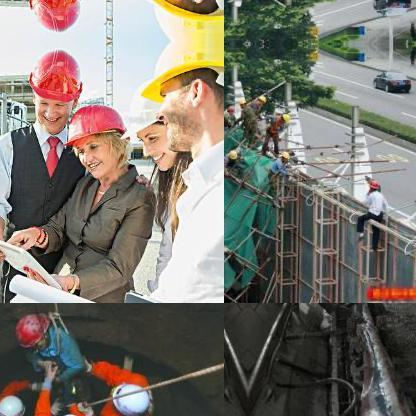Helmet: (138, 39, 223, 153), (122, 77, 186, 169), (24, 47, 80, 129), (66, 103, 127, 177), (138, 0, 223, 40), (23, 0, 82, 33), (13, 311, 52, 349), (110, 379, 148, 412), (0, 392, 26, 415), (275, 147, 291, 163), (224, 146, 239, 162), (254, 90, 268, 107), (364, 176, 380, 190), (274, 109, 290, 123), (235, 95, 250, 109), (224, 102, 234, 115)
